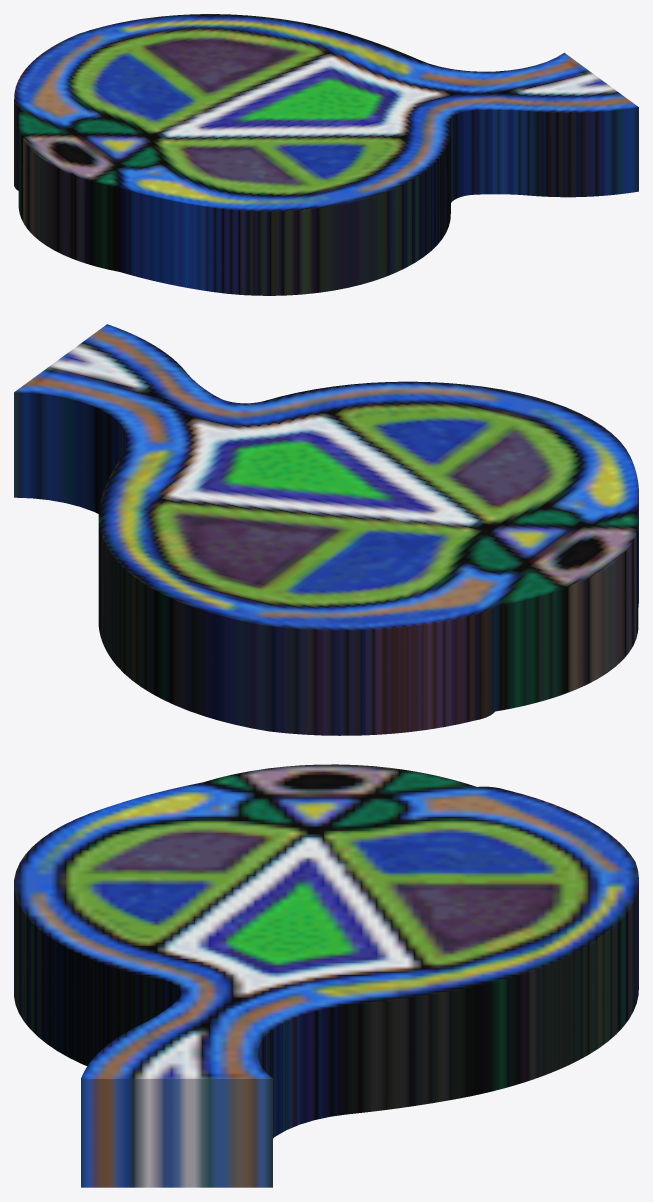
Rendered from muro del sol 5.dae.
3 views of the same model, one above another, from view 1: azimuth 30°, elevation 25°; view 2: azimuth 150°, elevation 25°; view 3: azimuth 270°, elevation 25° (orthographic). The views are drawn at different scales.
Visible parts, largest first — view 1: SketchUp; view 2: SketchUp; view 3: SketchUp.
Boxes of the visible parts, x1,y1,x2,y2 form: SketchUp: [14, 14, 638, 295]; SketchUp: [14, 324, 638, 735]; SketchUp: [14, 764, 638, 1187].
Size of the model in its own units: 22.88 by 19.22 by 3.69.
